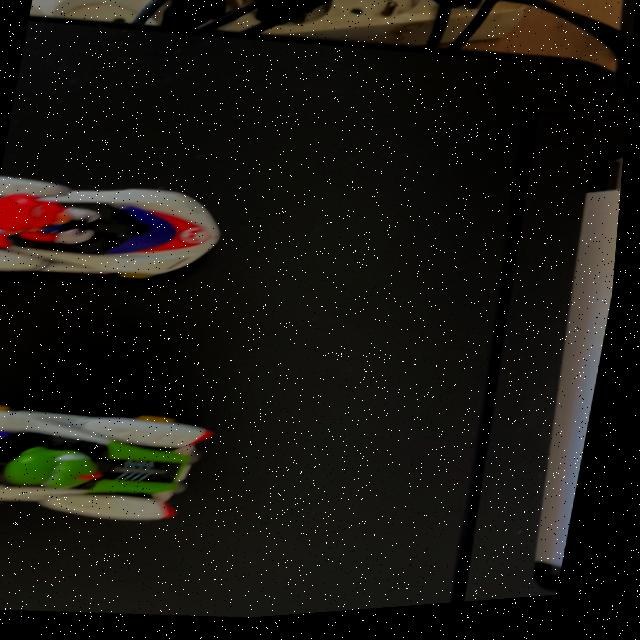mario: (0, 157, 250, 314)
yoshi: (0, 364, 257, 563)
